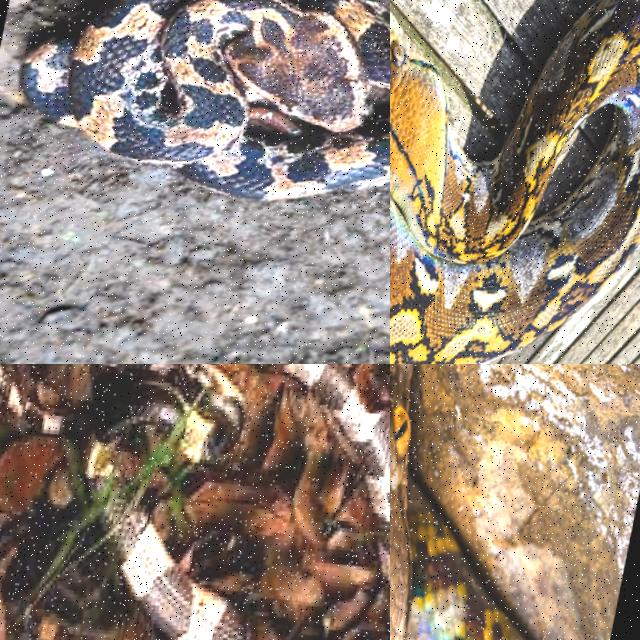Bungarus candidus: (279, 364, 389, 612)
Malayopython reticulatus: (390, 0, 639, 363), (390, 364, 524, 639)
Ovophis monticola: (20, 0, 389, 199)
